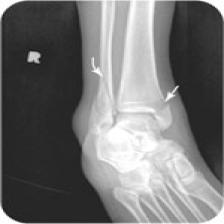spiral-fracture: (65, 0, 224, 224)
